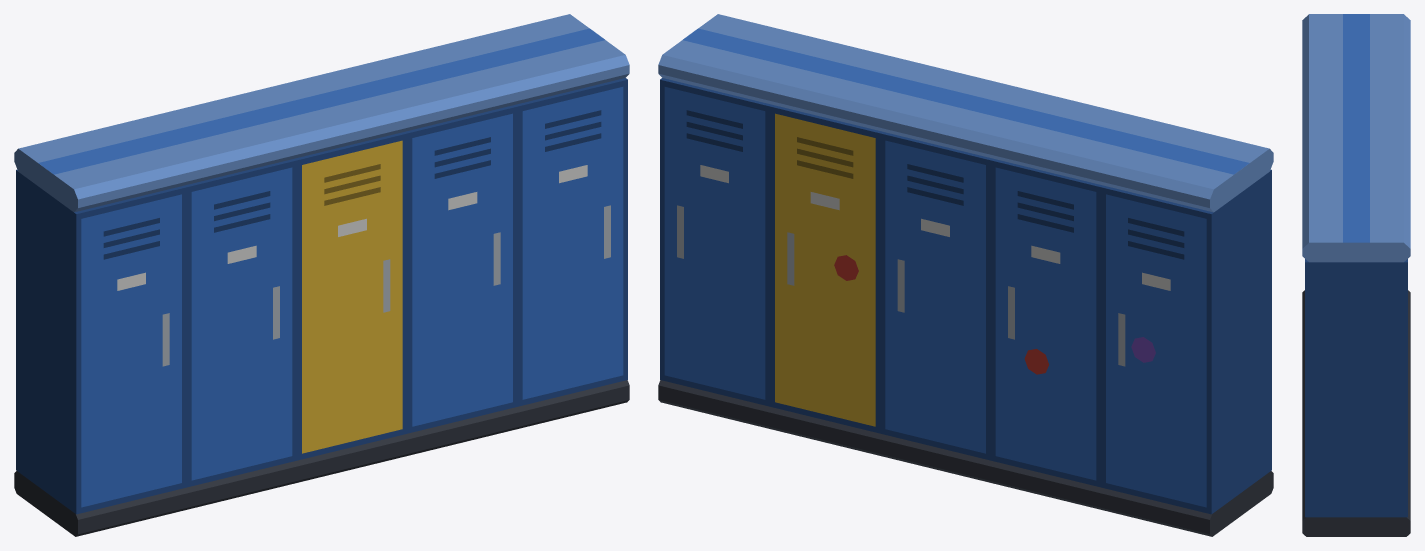
File: school-wall1.glb
3 renders of one model, left to right at view 1: azimuth 30°, elevation 25°; view 2: azimuth 150°, elevation 25°; view 3: azimuth 270°, elevation 25°, orthographic. The views are drawn at different scales.
Parts seen in each view (by area): view 1: school-wall1; view 2: school-wall1; view 3: school-wall1.
Boxes of the visible parts, box(x1,y1,x2,y2) form: school-wall1: box(14, 14, 629, 536); school-wall1: box(658, 14, 1273, 536); school-wall1: box(1302, 14, 1410, 536).
Bounding box in the file's own units: 2 × 1.2 × 0.4.
